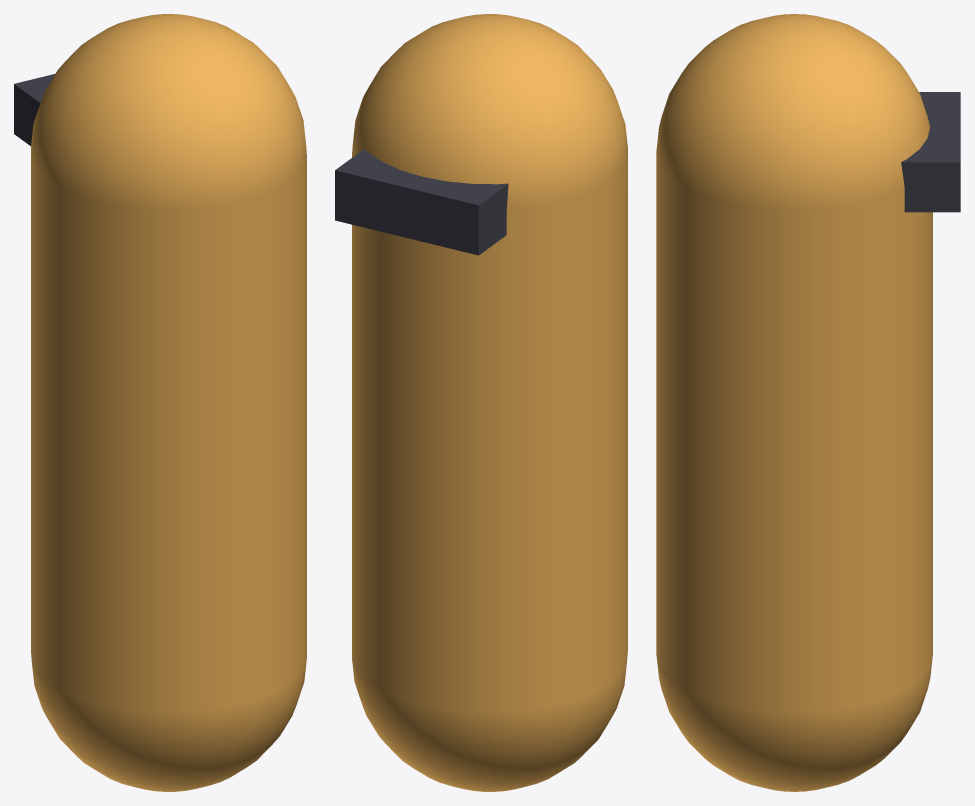
File: character.glb
3 renders of one model, left to right at view 1: azimuth 30°, elevation 25°; view 2: azimuth 150°, elevation 25°; view 3: azimuth 270°, elevation 25°, orthographic.
Visible parts, largest first — view 1: Character; view 2: Character; view 3: Character.
Part boxes in pixels (<box>): Character: <box>14,14,306,791</box>; Character: <box>335,14,627,791</box>; Character: <box>656,14,960,791</box>.
Size of the model in its own units: 0.6 by 1.8 by 0.66.
